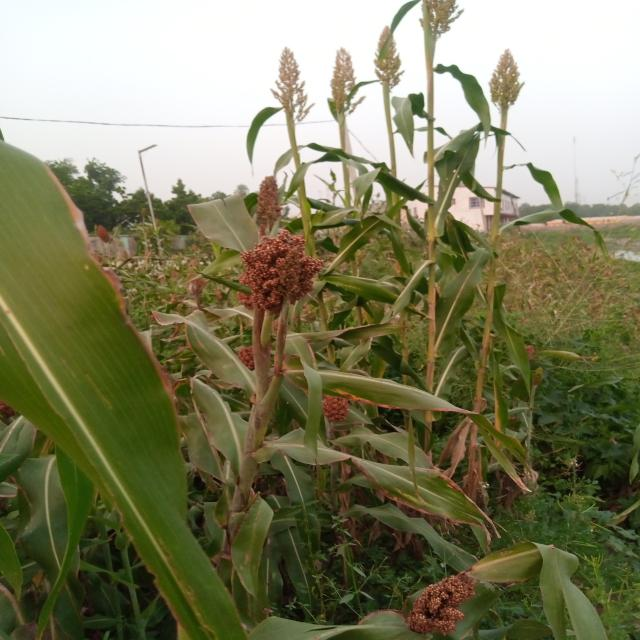RipeSorghum: (226, 229, 326, 328), (400, 561, 506, 640)
